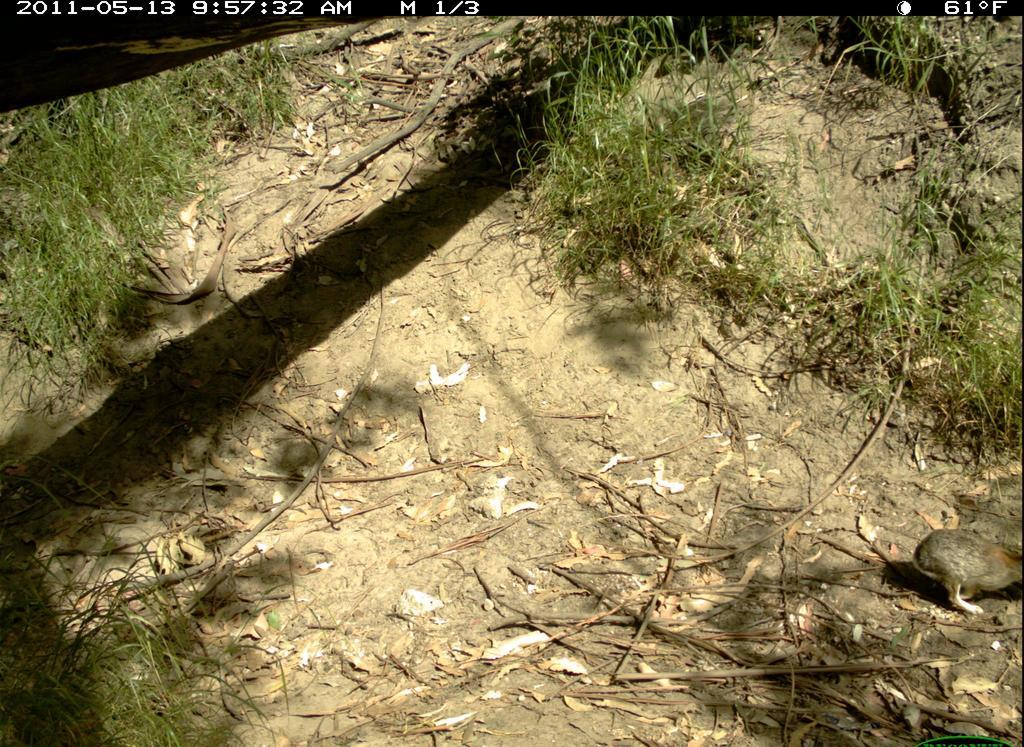rabbit: (893, 518, 1021, 623)
